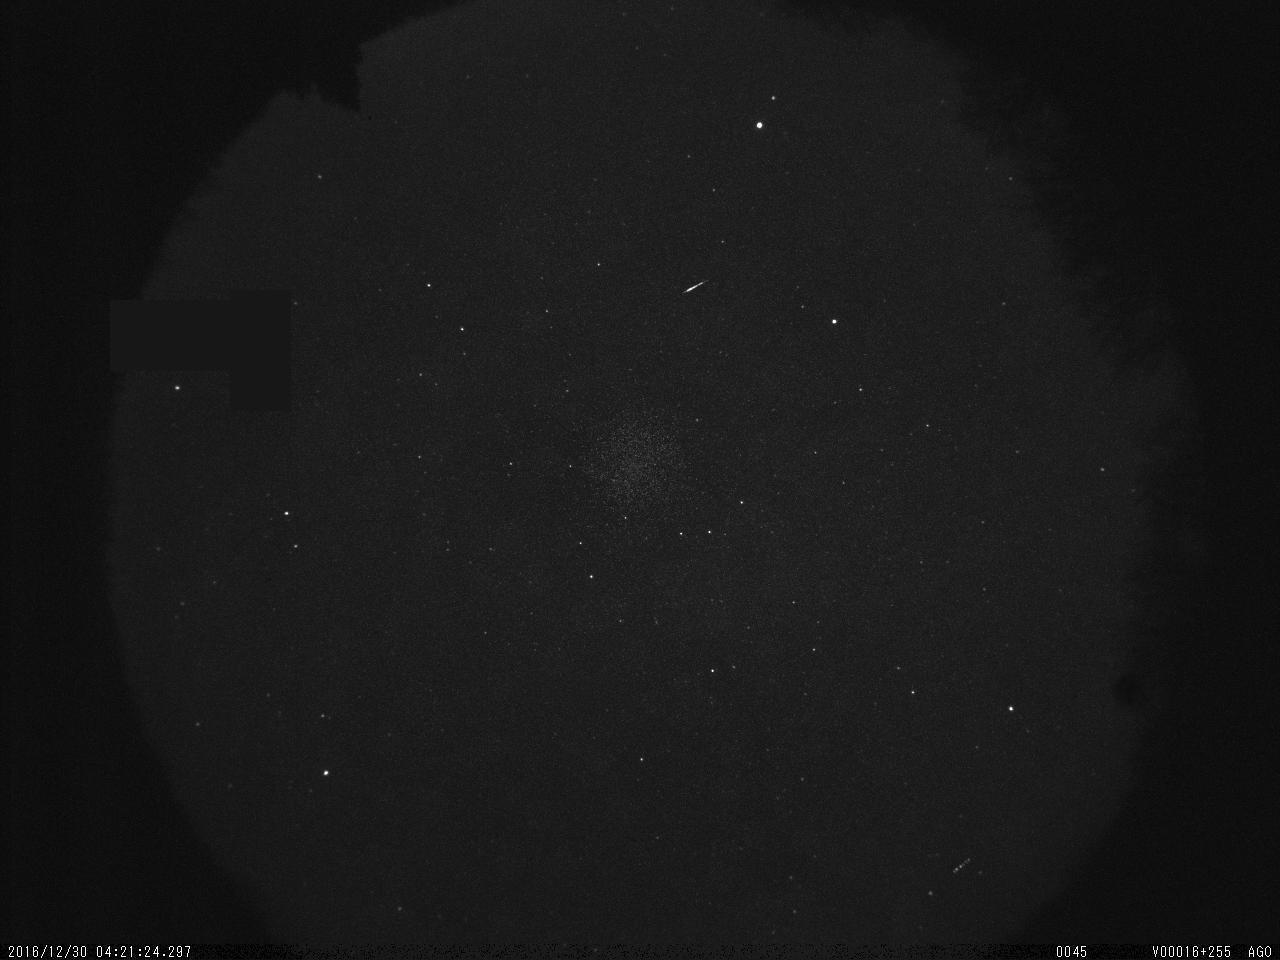meteor: (670, 266, 727, 306)
